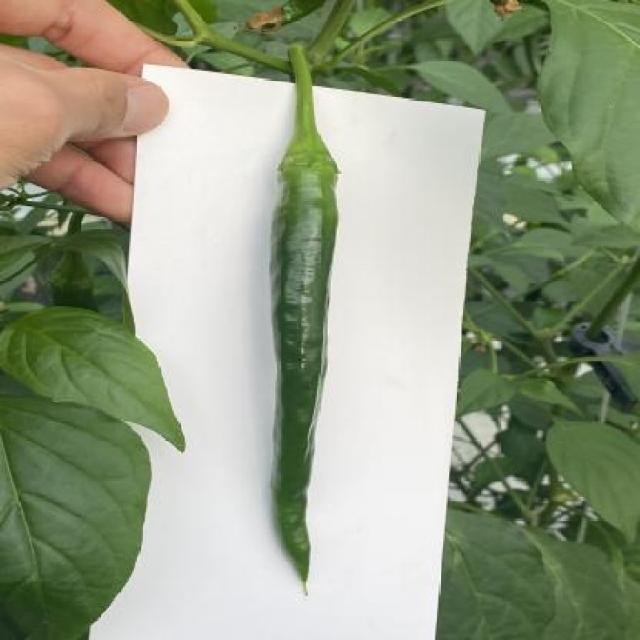green chilli: (270, 164, 338, 594)
